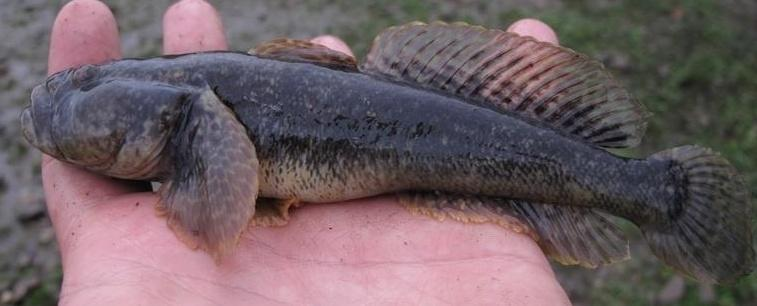Goby: (18, 16, 747, 286)
